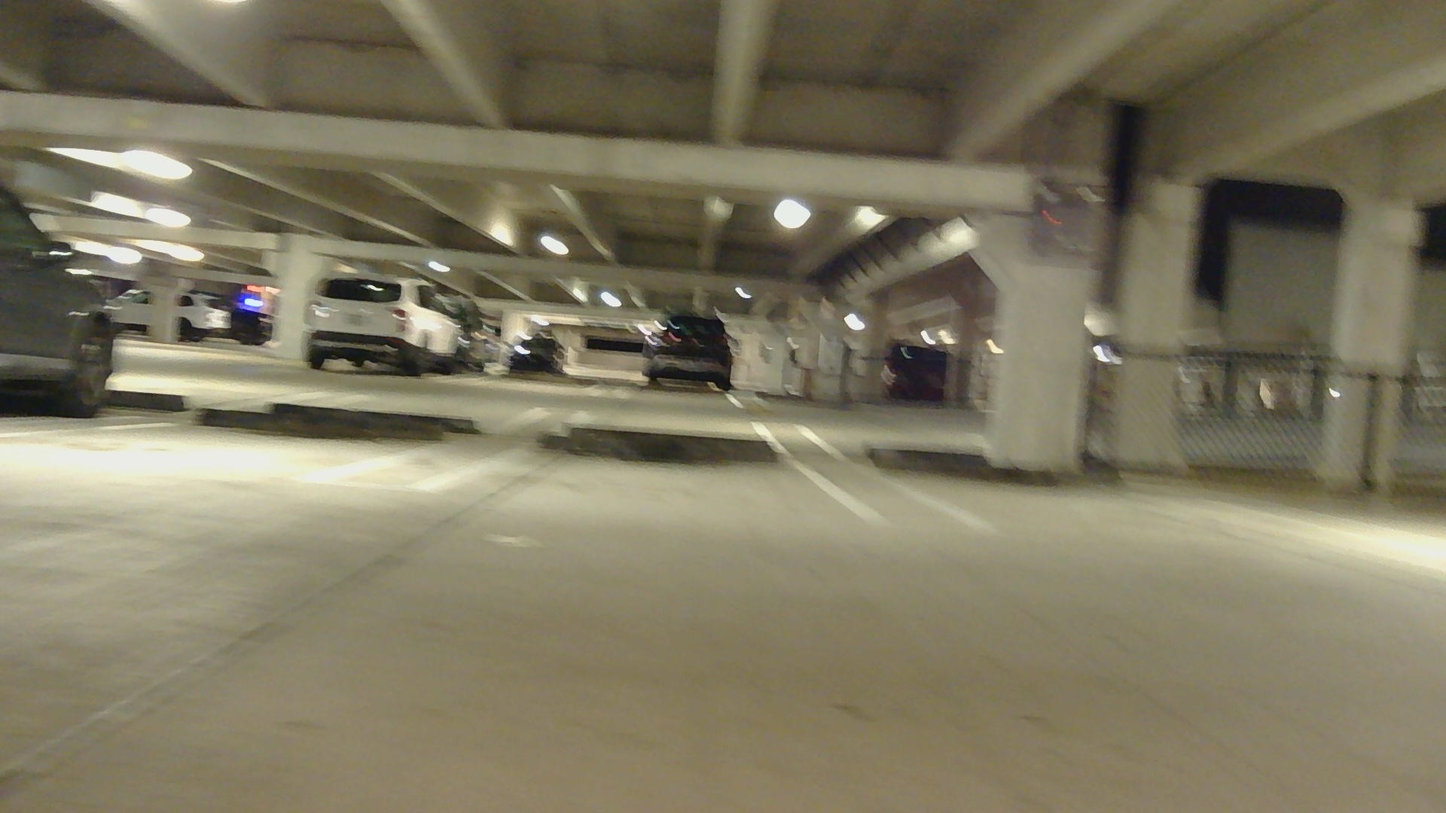empty_spot: (842, 458, 1433, 562), (421, 422, 905, 526), (0, 397, 465, 491)
